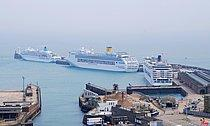Ship: (67, 48, 143, 75), (13, 43, 65, 65), (144, 54, 175, 87)
